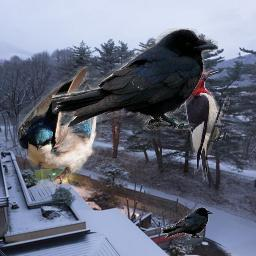Crow: (52, 28, 218, 130), (161, 207, 213, 238)
Swallow: (17, 66, 108, 188)
Woodpecker: (183, 69, 230, 182)
